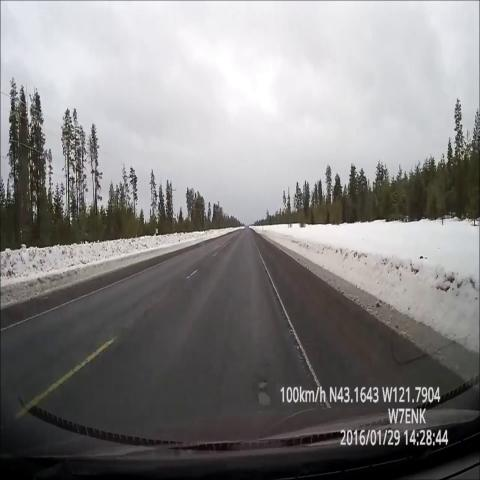pothole: (249, 375, 278, 414)
